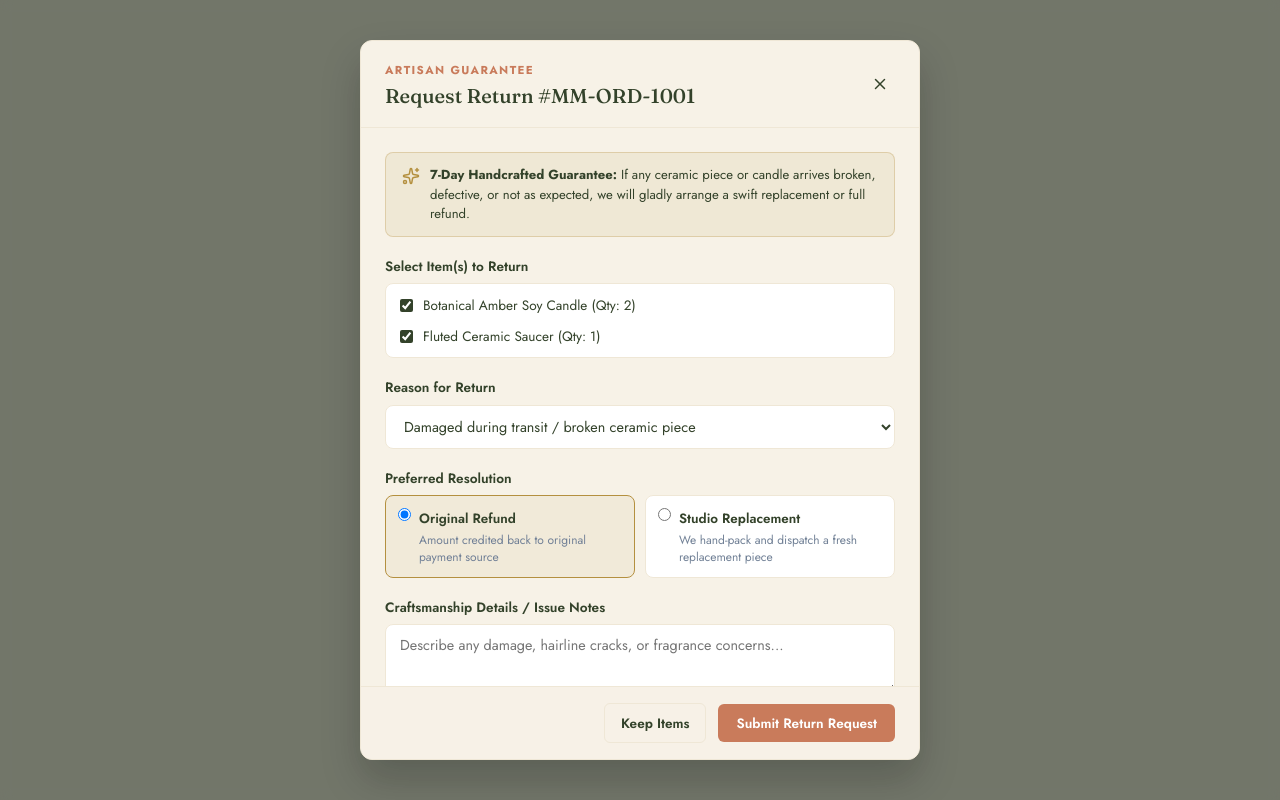
it: OrderReturnModal Component › switches resolution preference between refund and replacement
Click the text "Studio Replacement".
click(740, 519)  # box [679, 509, 800, 528]
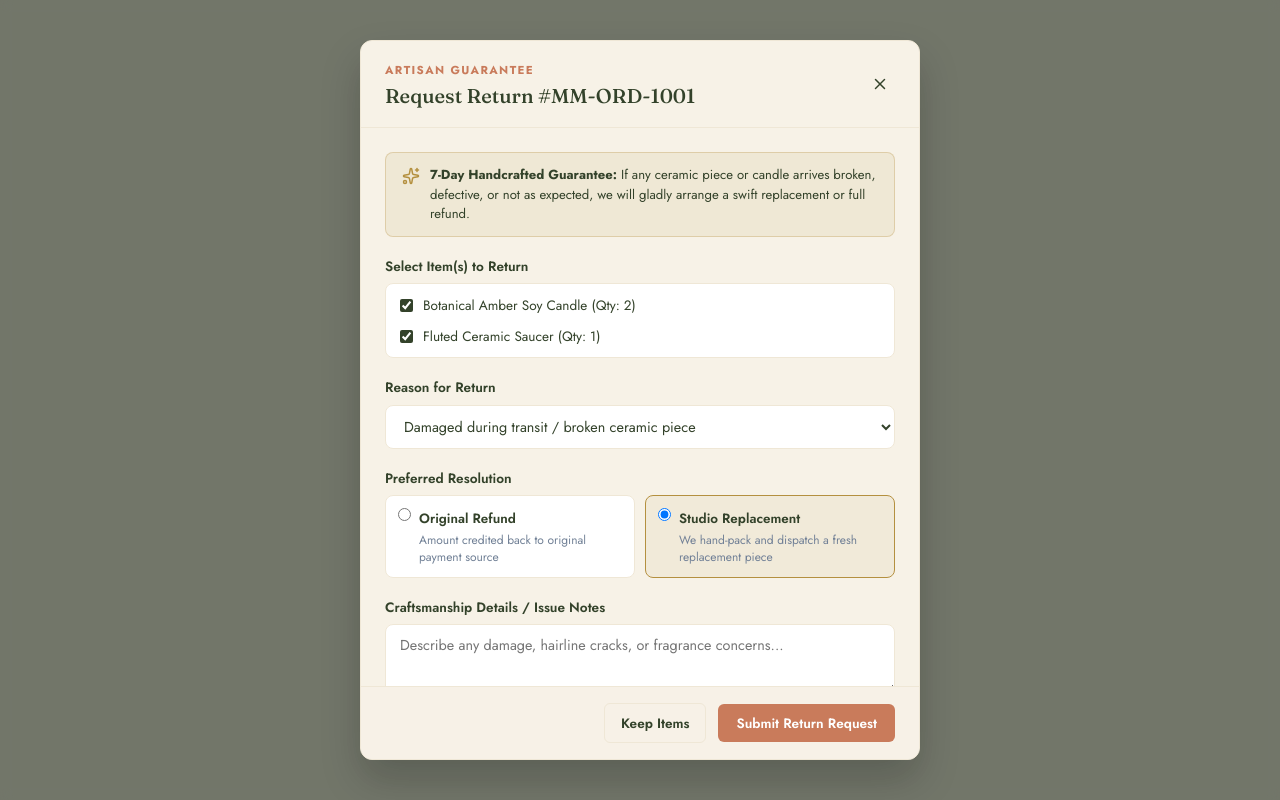
Now the radio button labelled "Studio Replacement" is checked, box [658, 508, 671, 521]
